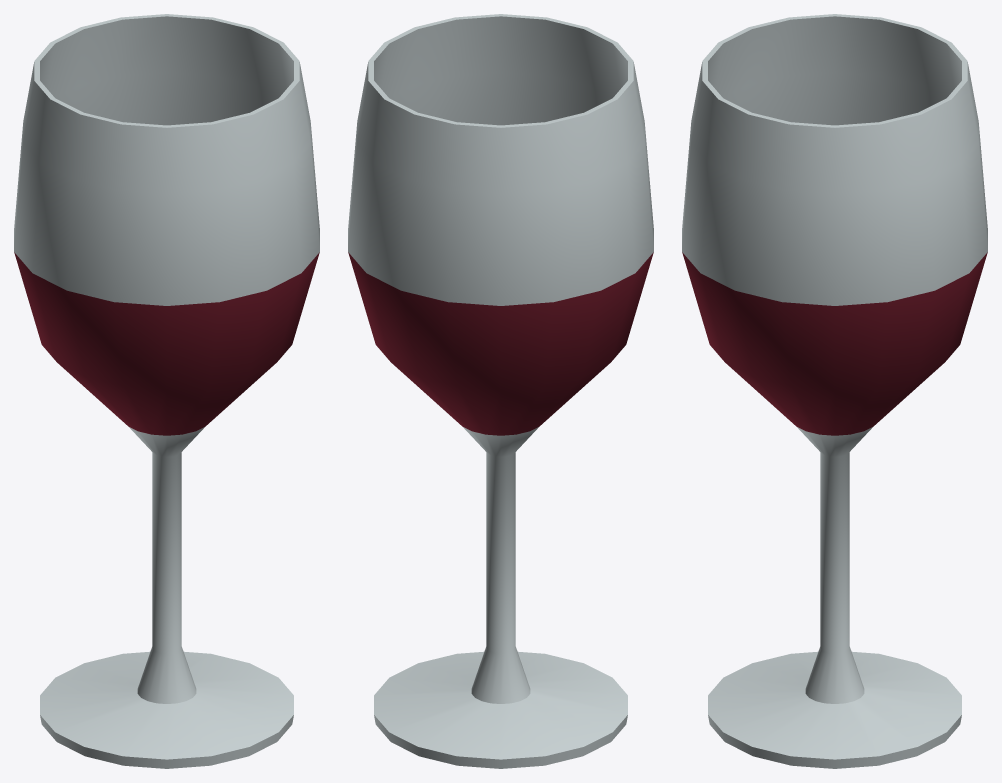
Rendered from wineGlass.glb.
The picture shows the model from 3 angles, left to right: view 1: azimuth 30°, elevation 25°; view 2: azimuth 150°, elevation 25°; view 3: azimuth 270°, elevation 25°; orthographic projection.
Visible parts, largest first — view 1: wineGlass; view 2: wineGlass; view 3: wineGlass.
Part boxes in pixels (bbox=[...]): wineGlass: bbox=[14, 14, 319, 768]; wineGlass: bbox=[348, 14, 653, 768]; wineGlass: bbox=[682, 14, 987, 768].
Bounding box in the file's own units: 0.083 × 0.19 × 0.0817.
